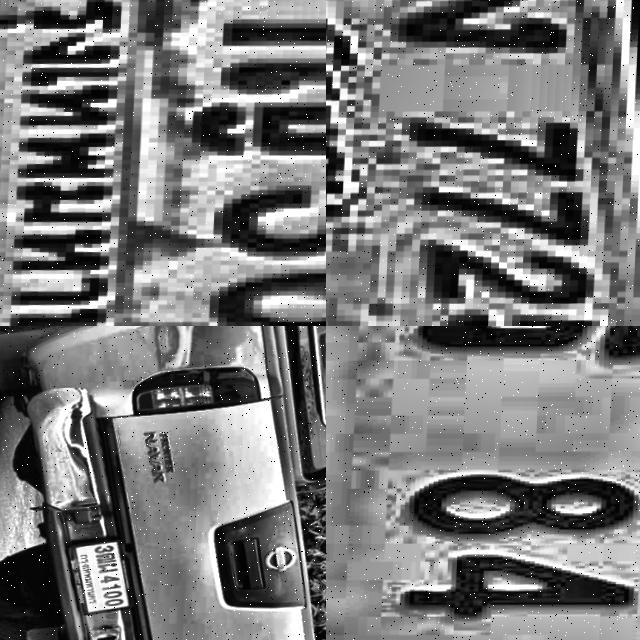license-plate: (0, 0, 326, 326), (326, 0, 640, 326), (326, 326, 640, 640), (60, 532, 138, 623)
